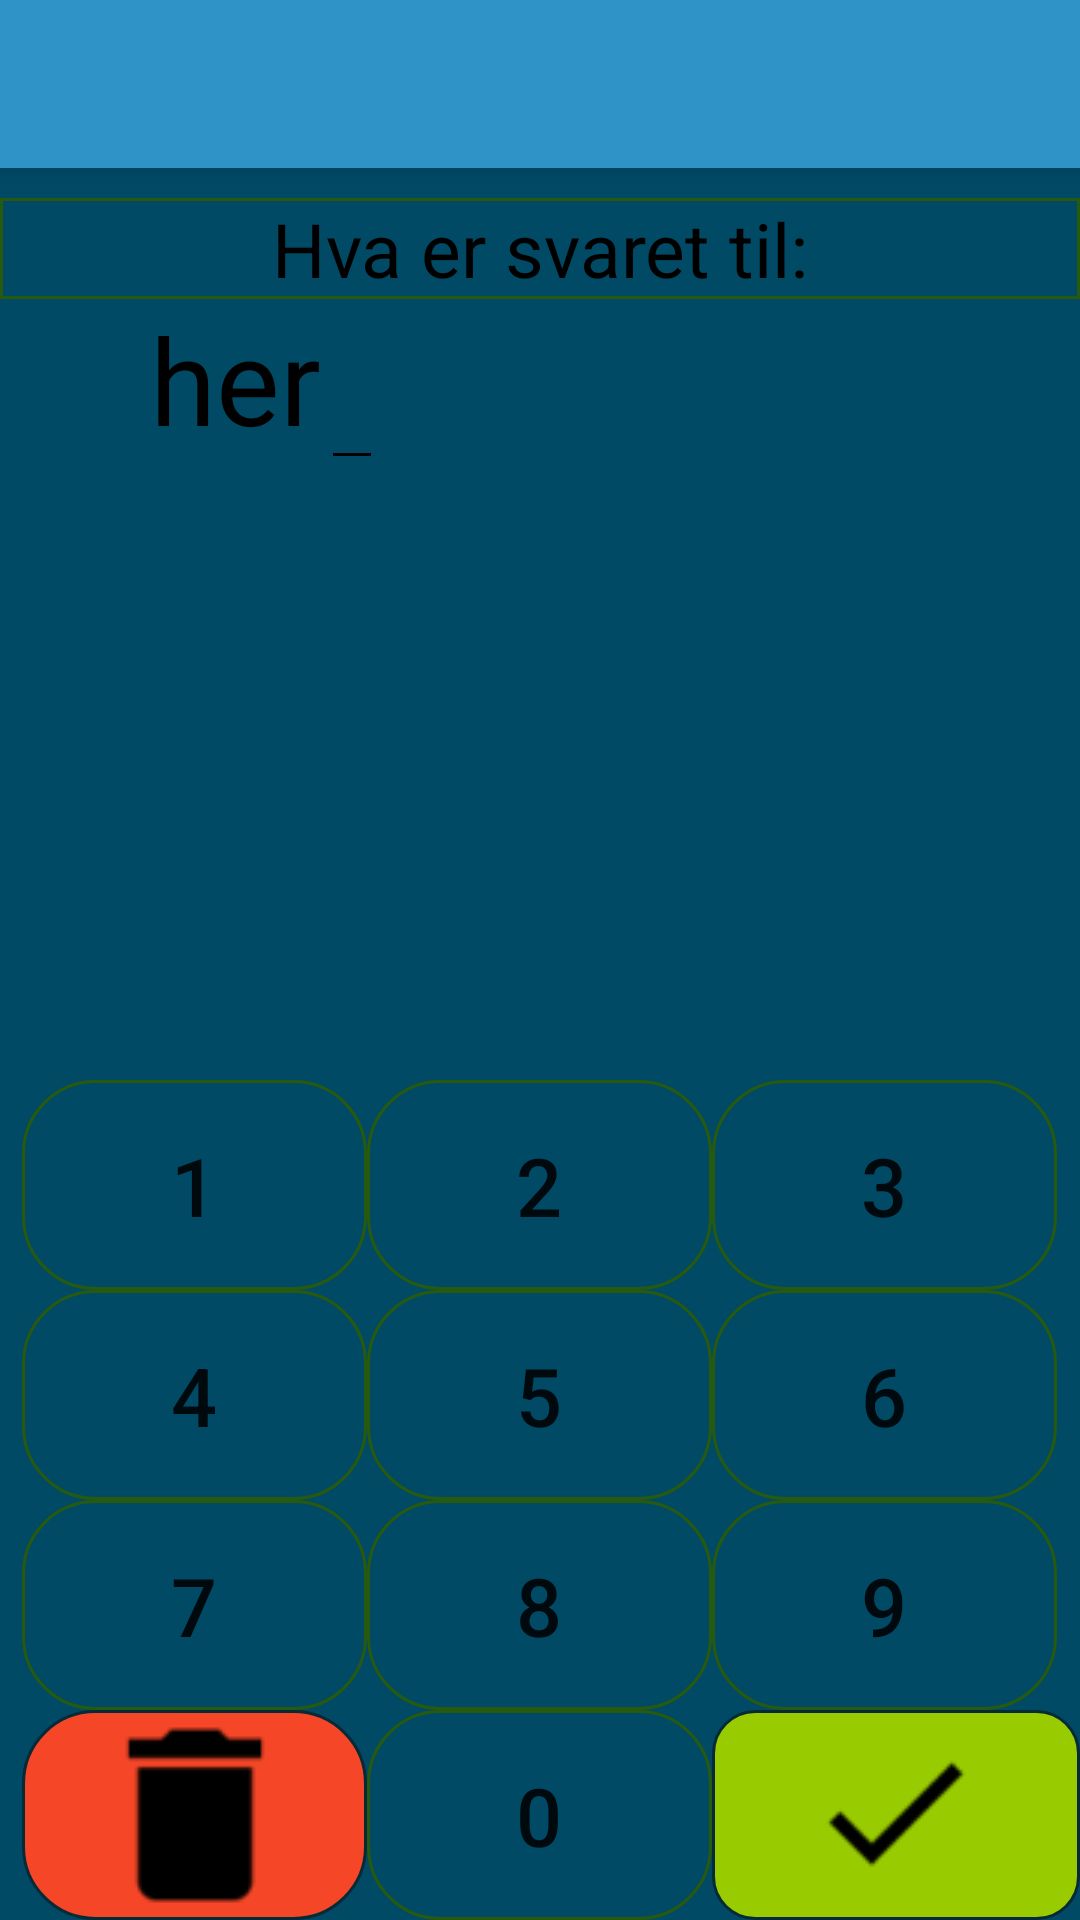

Screen size 1080 x 1920. Icon name, then its center in pixels as (x,y):
delete: (194,1815)
